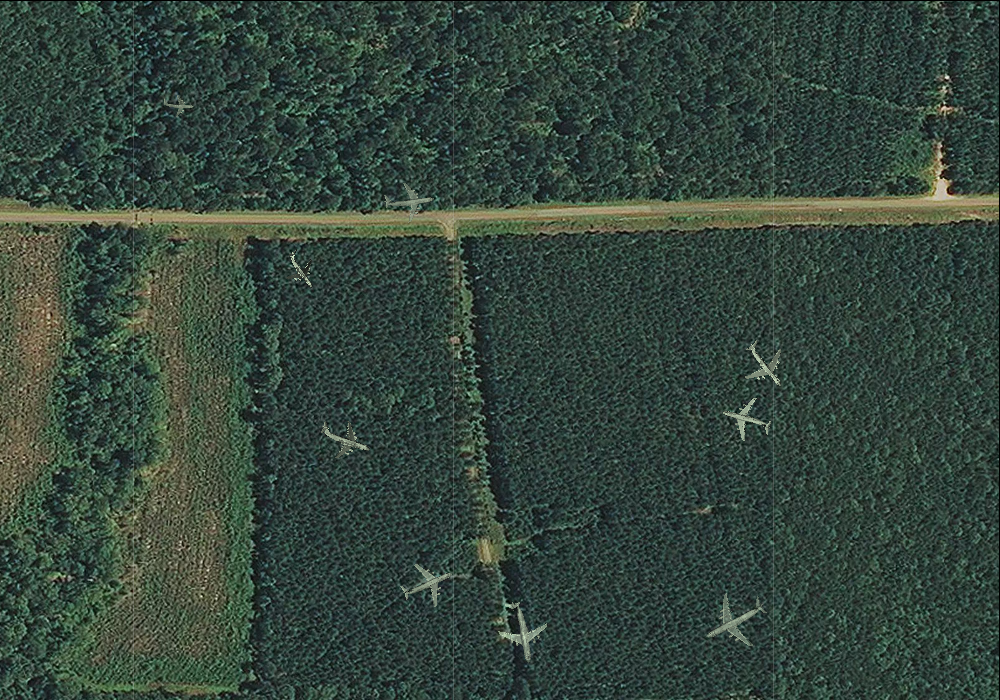plane: (691, 577, 779, 663), (730, 329, 801, 400), (391, 549, 462, 618), (487, 596, 554, 668), (312, 407, 378, 469), (716, 390, 777, 450), (274, 241, 328, 297), (381, 173, 437, 226), (161, 89, 194, 118)
